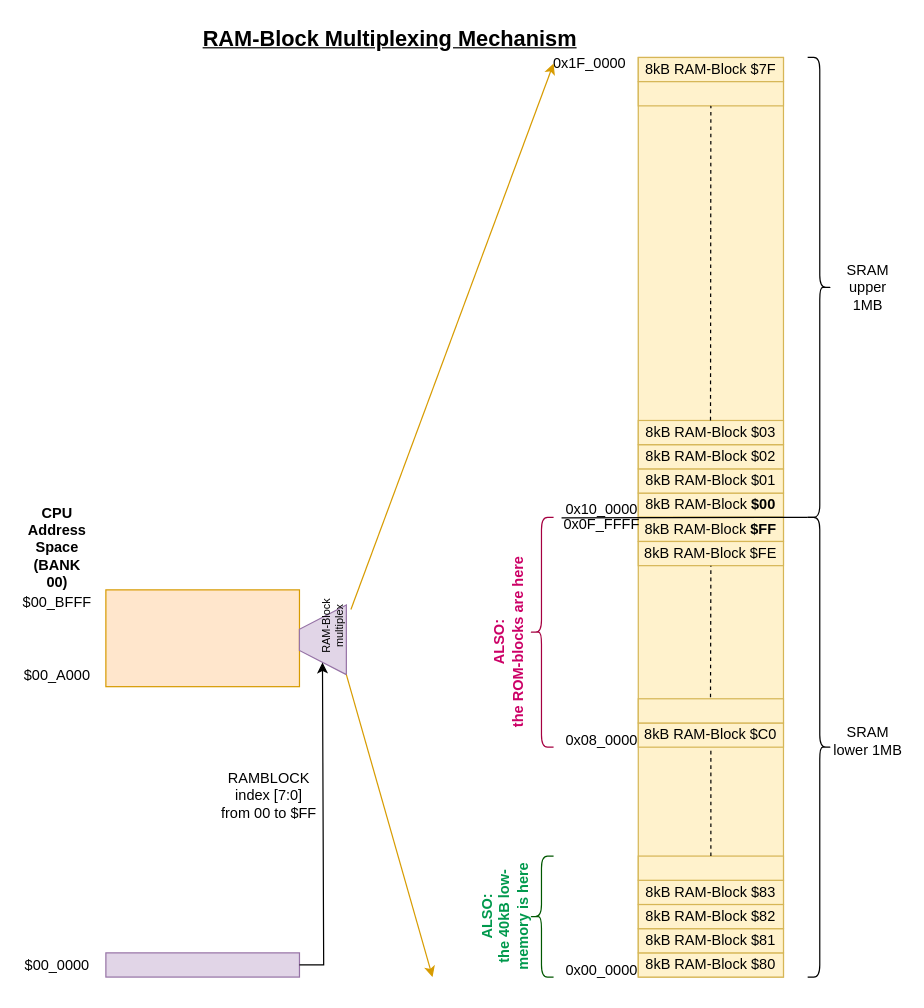
Image size: 924x1008. Some labels were removed from this diagram. Each missing label, with the centre of its shape:
"8kB RAM-Block $7E" belongs at (x=710, y=93).
"8kB RAM-Block $84" belongs at (x=710, y=867).
"8kB RAM-Block $C1" belongs at (x=710, y=710).
"RAM-Block Frame 8kB" belongs at (x=202, y=638).
"RAMBLOCK reg (1B)" belongs at (x=202, y=964).
